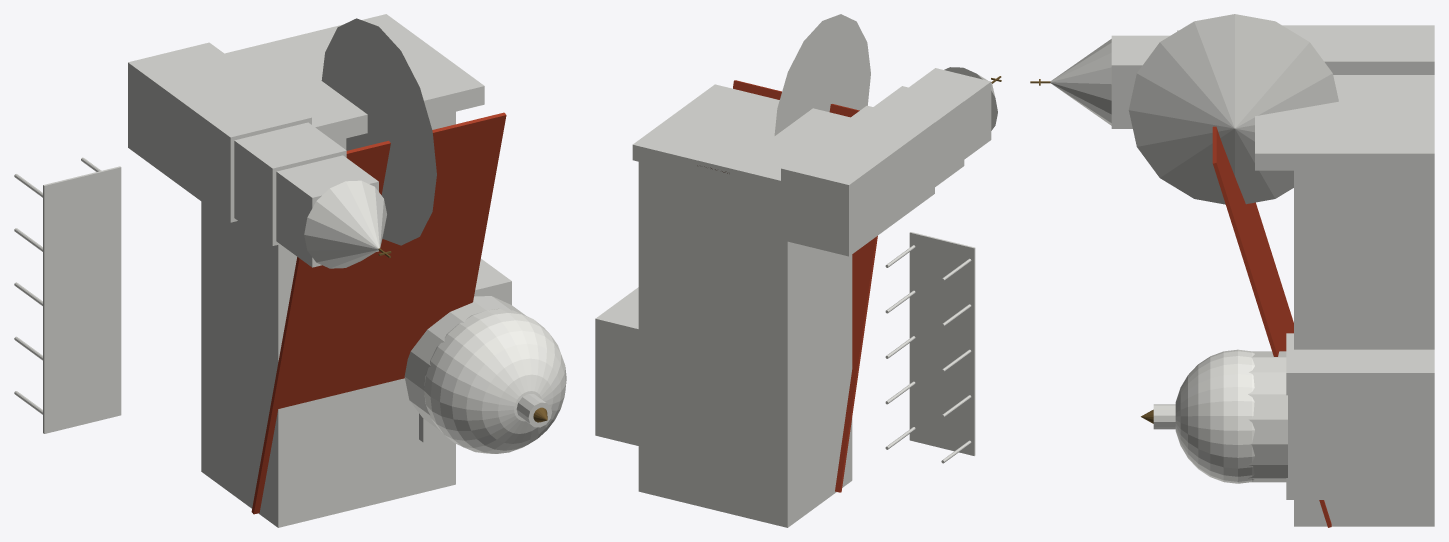
The model's file is entorno_iglesia.obj.
The picture shows the model from 3 angles, left to right: view 1: azimuth 30°, elevation 25°; view 2: azimuth 150°, elevation 25°; view 3: azimuth 270°, elevation 25°; orthographic projection. The views are drawn at different scales.
Parts seen in each view (by area): view 1: Export_Iglesia; view 2: Export_Iglesia; view 3: Export_Iglesia.
Part boxes in pixels (x1=…): Export_Iglesia: x1=14, y1=14, x2=566, y2=527; Export_Iglesia: x1=595, y1=14, x2=1001, y2=527; Export_Iglesia: x1=1030, y1=14, x2=1434, y2=527.
Bounding box in the file's own units: 29.65 × 32.8 × 25.9.
